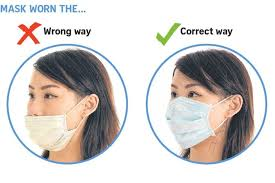mask_weared_incorrect: (19, 76, 95, 150)
with_mask: (166, 86, 238, 148)
